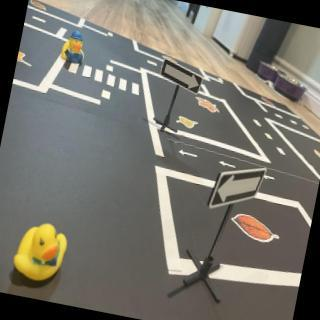duck_regular: (11, 219, 70, 284)
duck_specialty: (60, 29, 90, 66)
road_crosswalk: (63, 61, 145, 99)
road_oneway: (177, 147, 202, 162), (219, 155, 240, 170), (262, 172, 278, 184)
sign_oneway_left: (209, 158, 268, 218)
sign_oneway_right: (158, 58, 206, 97)
